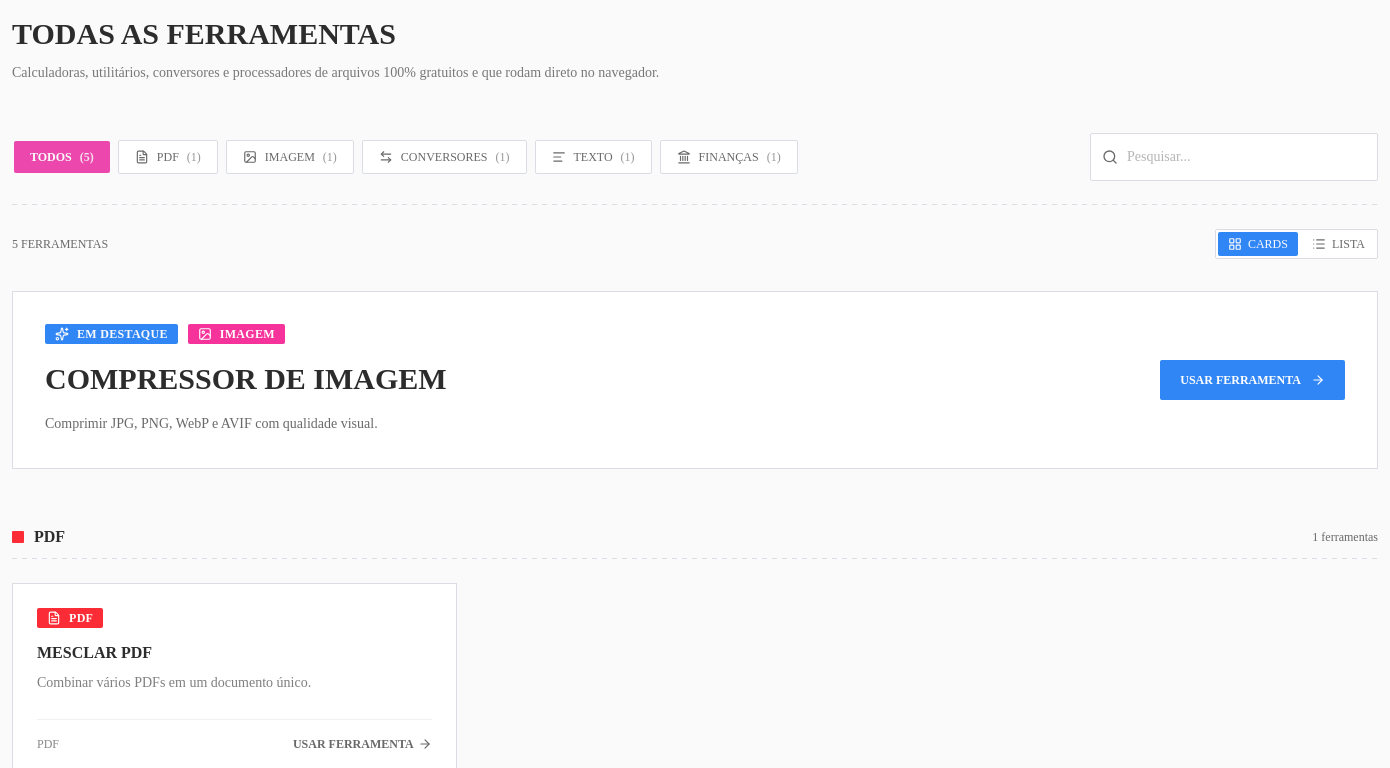
Test: AppToolsHub › clears search input when clicking clear button
Type "PDF" into the field with placeholder "Pesquisar..." at (1234, 157), box [1090, 133, 1378, 181]
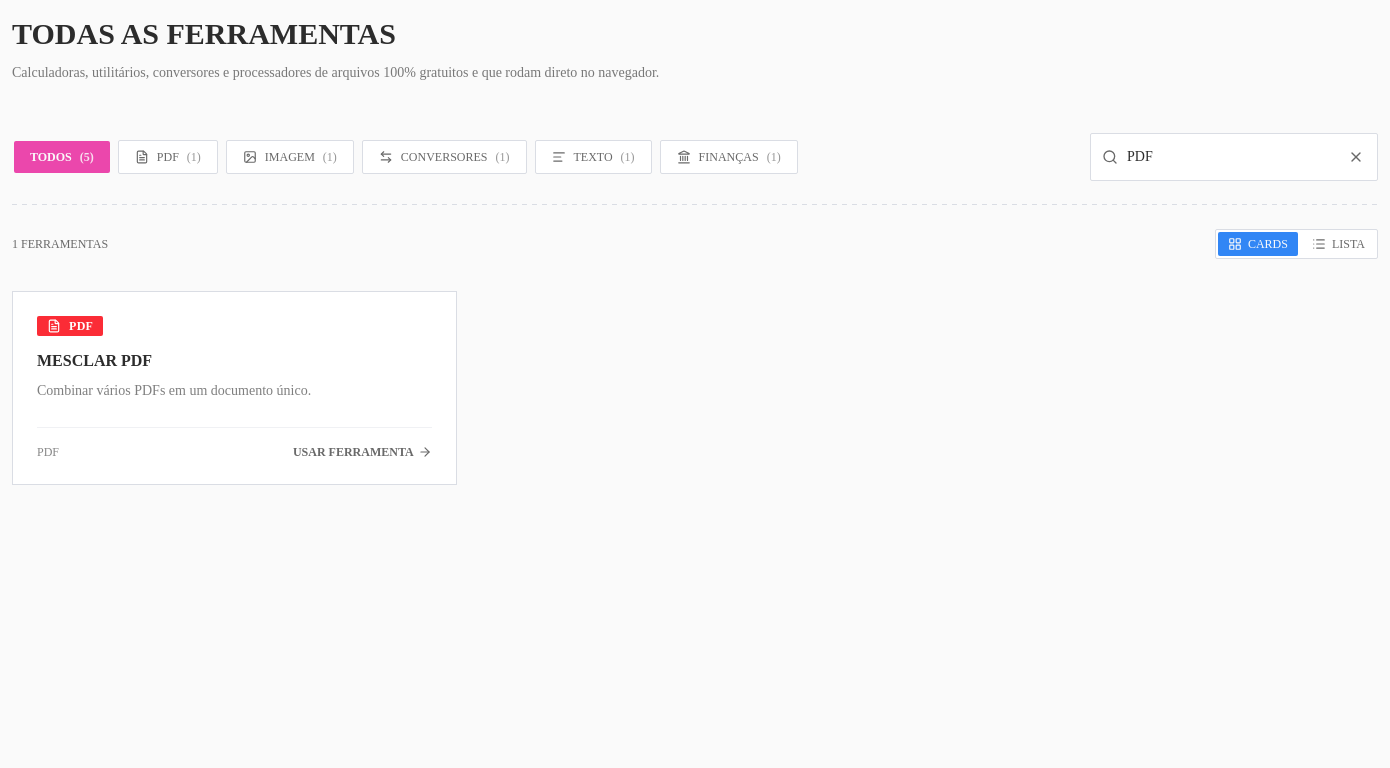
Now the button named "Clear search" is shown
Click the button named "Clear search" at (1356, 157), box [1344, 145, 1368, 169]
(page scrolled)
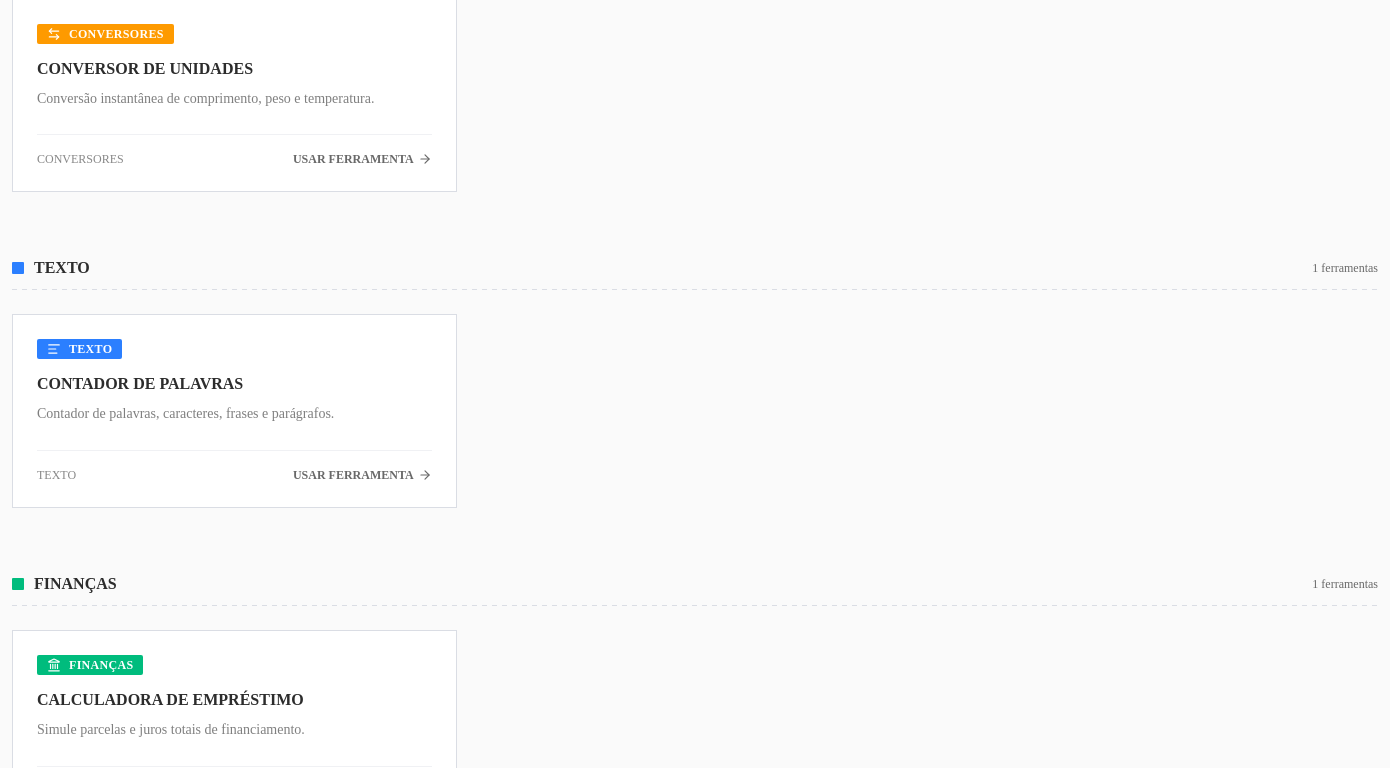
Now the heading "Contador de Palavras" is shown, box [37, 375, 243, 392]
